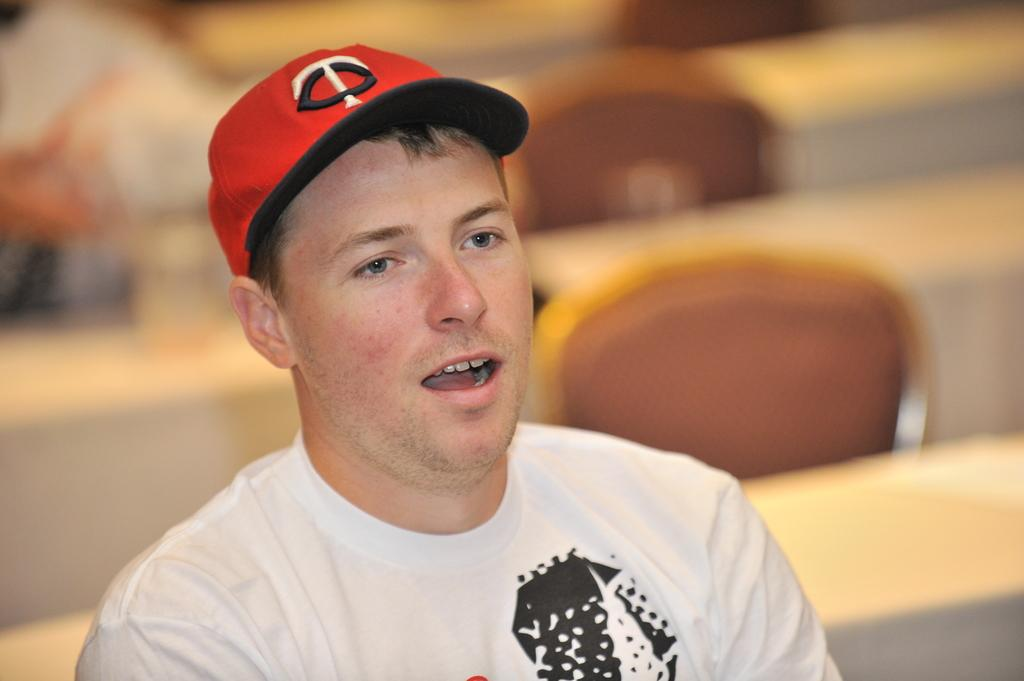Hat: (208, 41, 532, 278)
